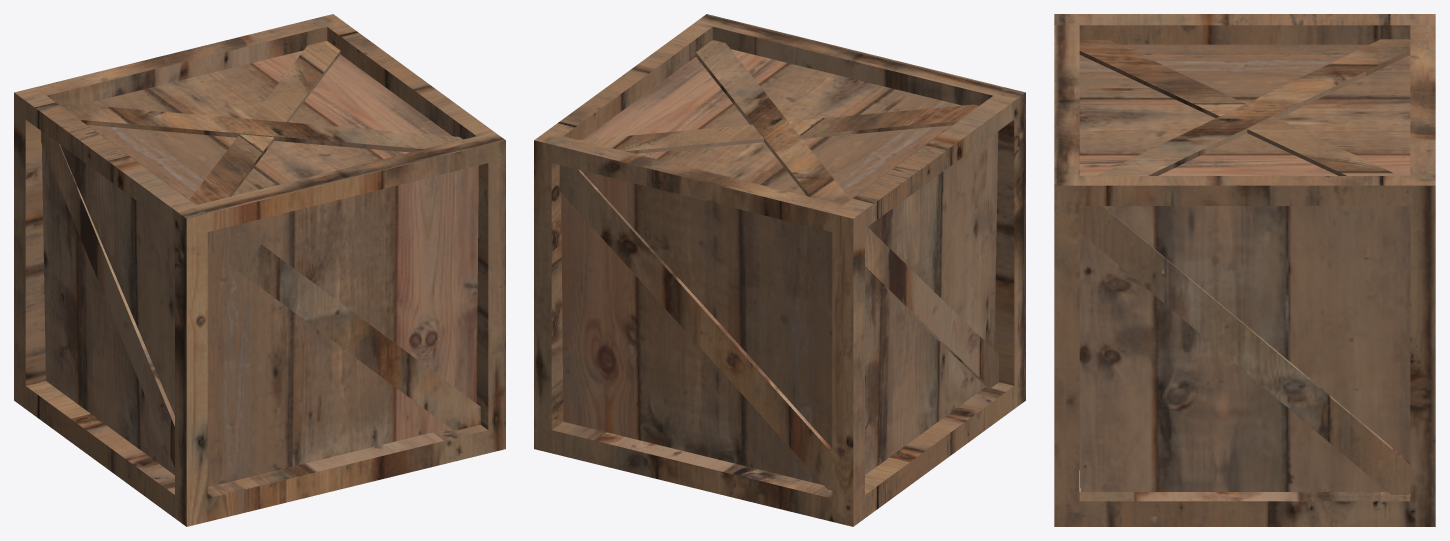
The model's file is SM_Crate_1.fbx.
3 renders of one model, left to right at view 1: azimuth 30°, elevation 25°; view 2: azimuth 150°, elevation 25°; view 3: azimuth 270°, elevation 25°, orthographic. The views are drawn at different scales.
Visible parts, largest first — view 1: Crate; view 2: Crate; view 3: Crate.
Part boxes in pixels (x1,y1,x2,y2): Crate: [14, 14, 505, 526]; Crate: [534, 14, 1025, 526]; Crate: [1054, 14, 1435, 526].
Bounding box in the file's own units: 4.09 × 3.78 × 3.83.
